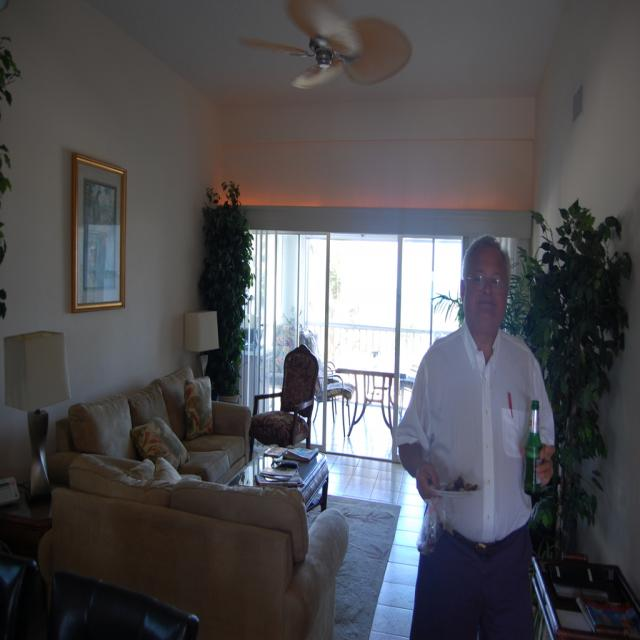Bulb: (235, 0, 412, 89)
